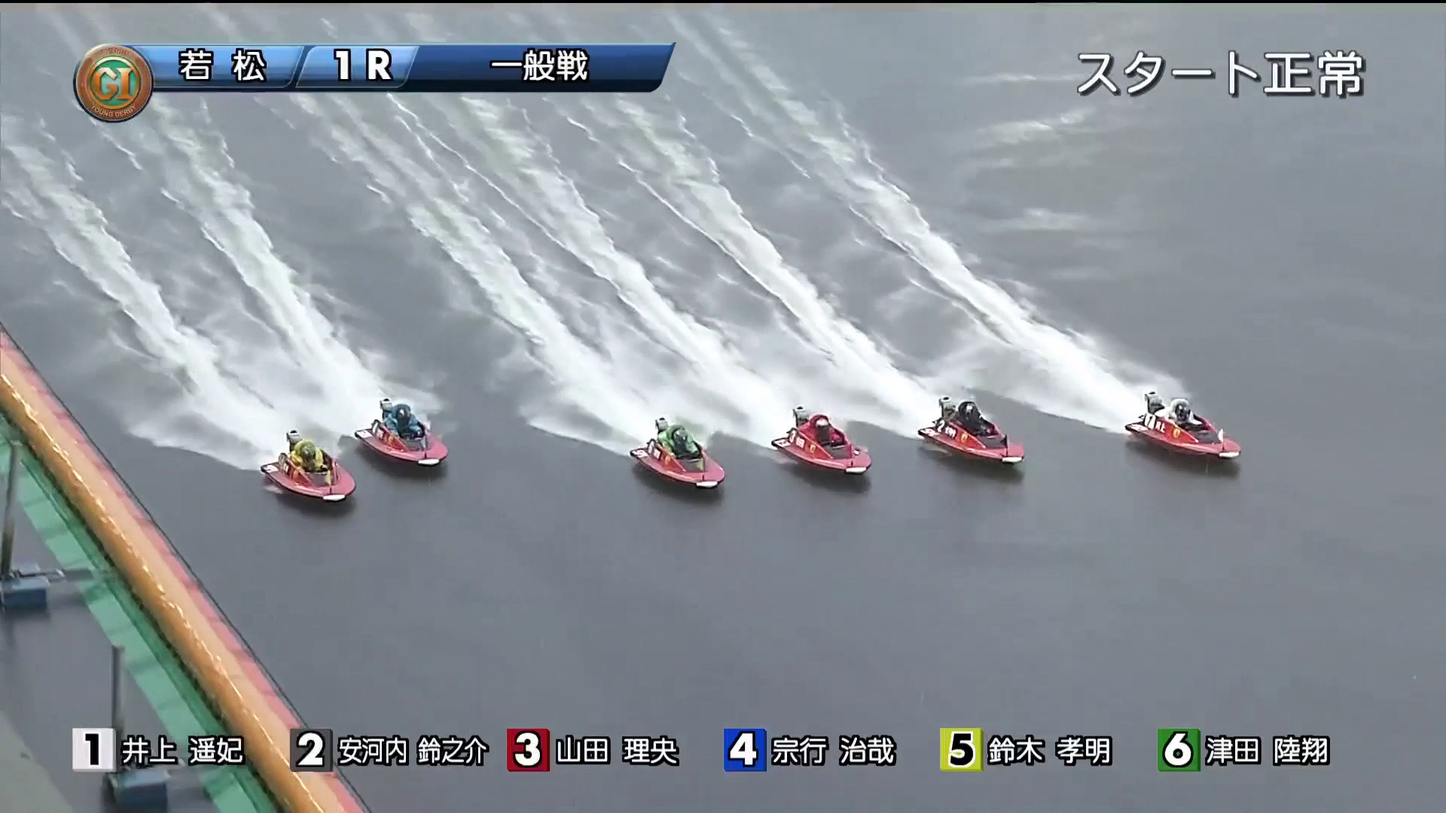１号艇: (1146, 381, 1249, 426)
２号艇: (933, 392, 1036, 438)
３号艇: (775, 425, 883, 467)
４号艇: (629, 429, 739, 480)
５号艇: (344, 402, 465, 458)
６号艇: (274, 456, 374, 513)
